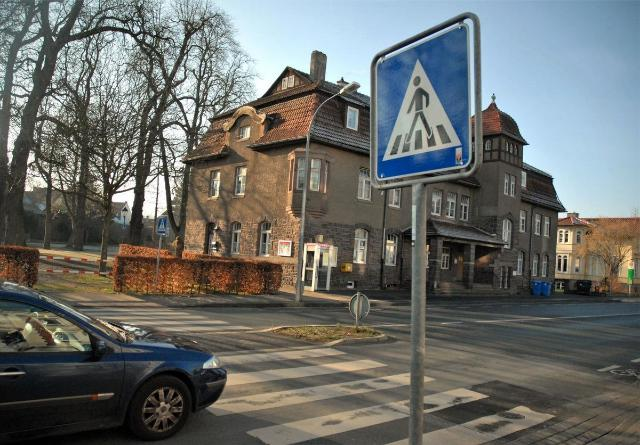crosswalk-sign: (372, 23, 475, 186), (158, 219, 172, 238)
